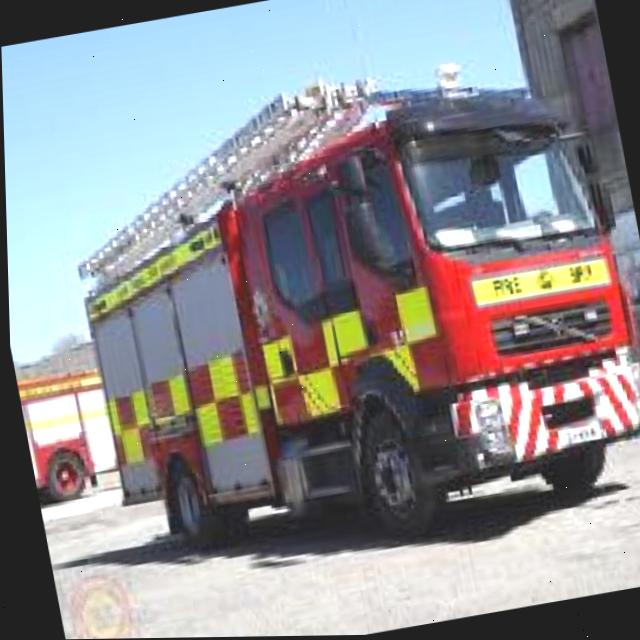emergency: (44, 33, 640, 586)
